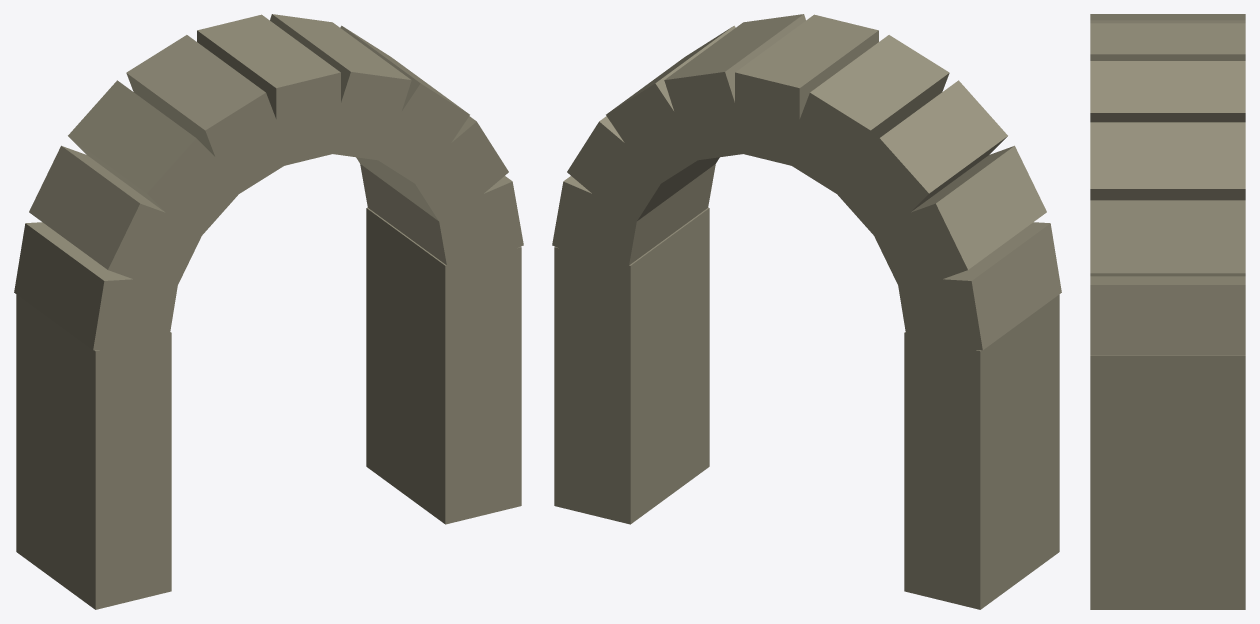
Rendered from arch.glb.
3 views of the same model, side by side, from view 1: azimuth 30°, elevation 25°; view 2: azimuth 150°, elevation 25°; view 3: azimuth 270°, elevation 25° (orthographic).
Parts seen in each view (by area): view 1: Каменная арка; view 2: Каменная арка; view 3: Каменная арка.
Boxes of the visible parts, x1,y1,x2,y2 form: Каменная арка: (14, 14, 523, 609); Каменная арка: (552, 14, 1061, 609); Каменная арка: (1090, 14, 1245, 609).
Size of the model in its own units: 5.66 by 6 by 1.8.
